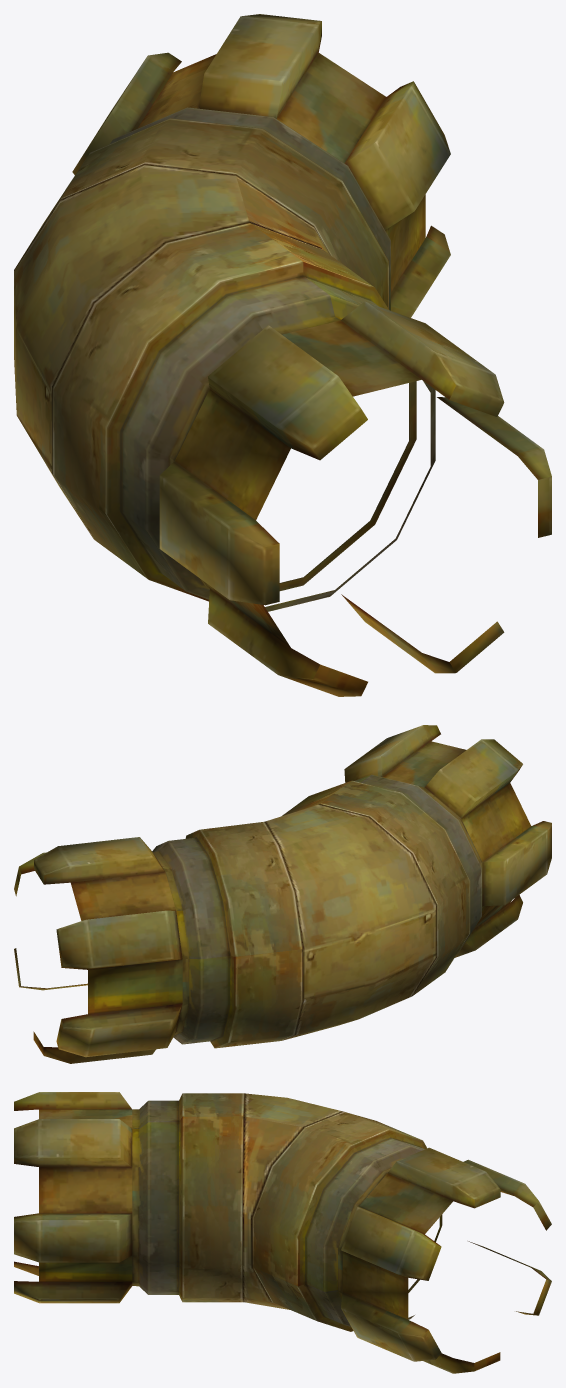
The model's file is hut_item_pipe_45.glb.
The picture shows the model from 3 angles, top to bottom: view 1: azimuth 30°, elevation 25°; view 2: azimuth 150°, elevation 25°; view 3: azimuth 270°, elevation 25°; orthographic projection. The views are drawn at different scales.
Parts seen in each view (by area): view 1: hut_item_pipe_45; view 2: hut_item_pipe_45; view 3: hut_item_pipe_45.
Boxes of the visible parts, <box> form: hut_item_pipe_45: <box>14,14,551,696</box>; hut_item_pipe_45: <box>14,725,551,1063</box>; hut_item_pipe_45: <box>14,1092,551,1373</box>.
Bounding box in the file's own units: 0.498 × 0.2841 × 0.7359.
1 material, 1 textured.
